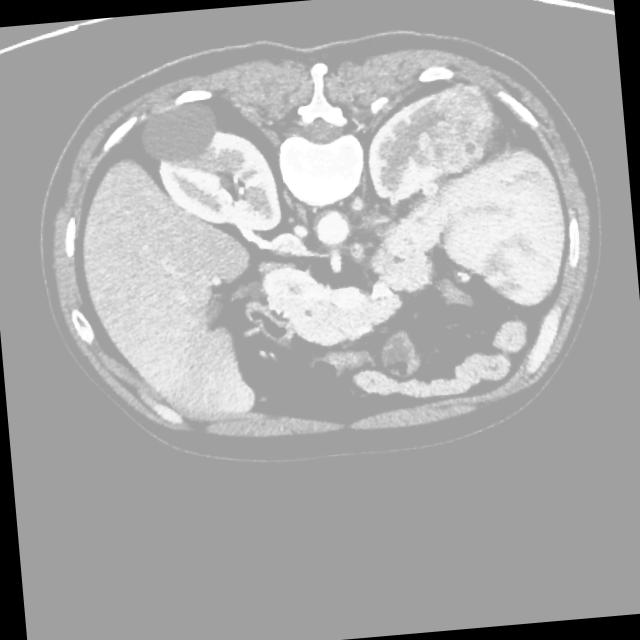TUMOR: (142, 130, 585, 411)
